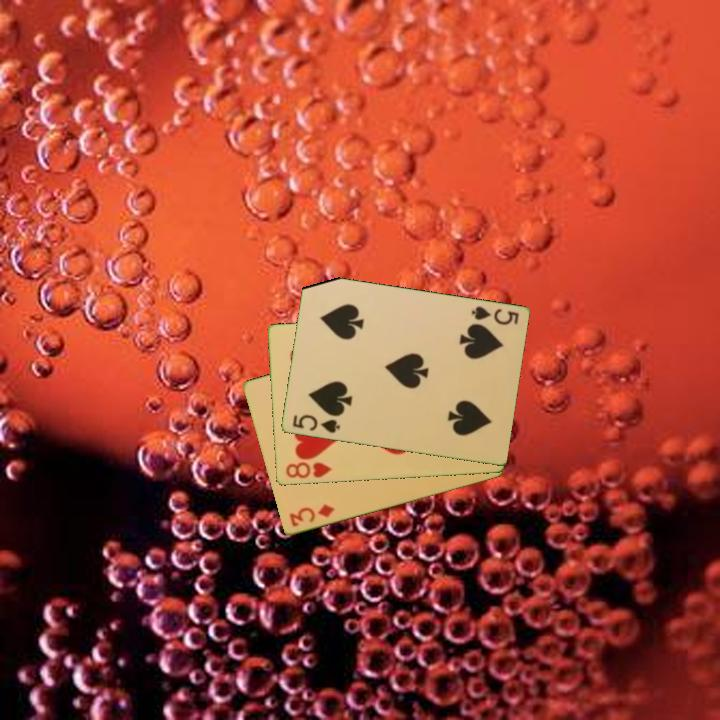3d: (285, 501, 337, 530)
5s: (289, 411, 343, 436), (468, 303, 521, 328)
8h: (282, 459, 335, 482)
